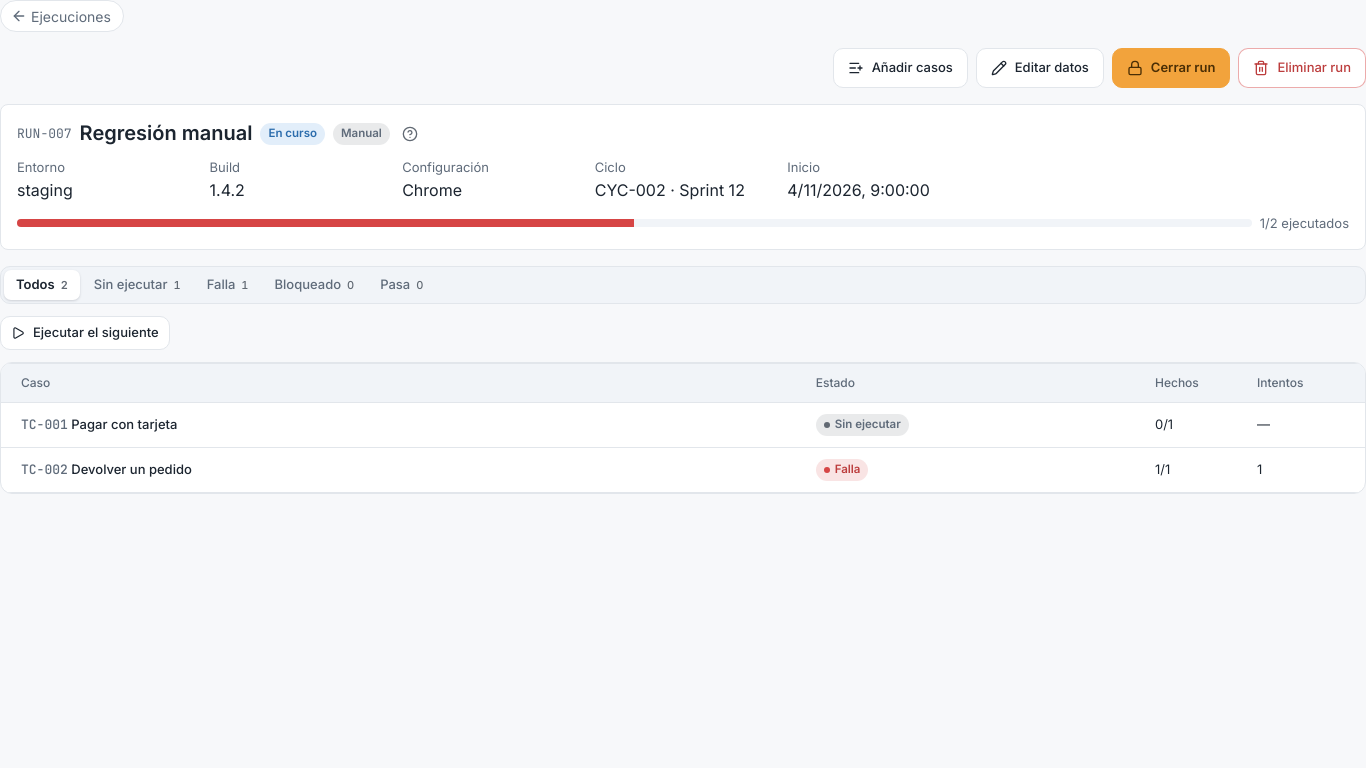
Test: run screen › does not delete a run of a closed cycle
Click the button with test id "run-delete". click: click(1302, 68)
box: [1238,48,1365,88]
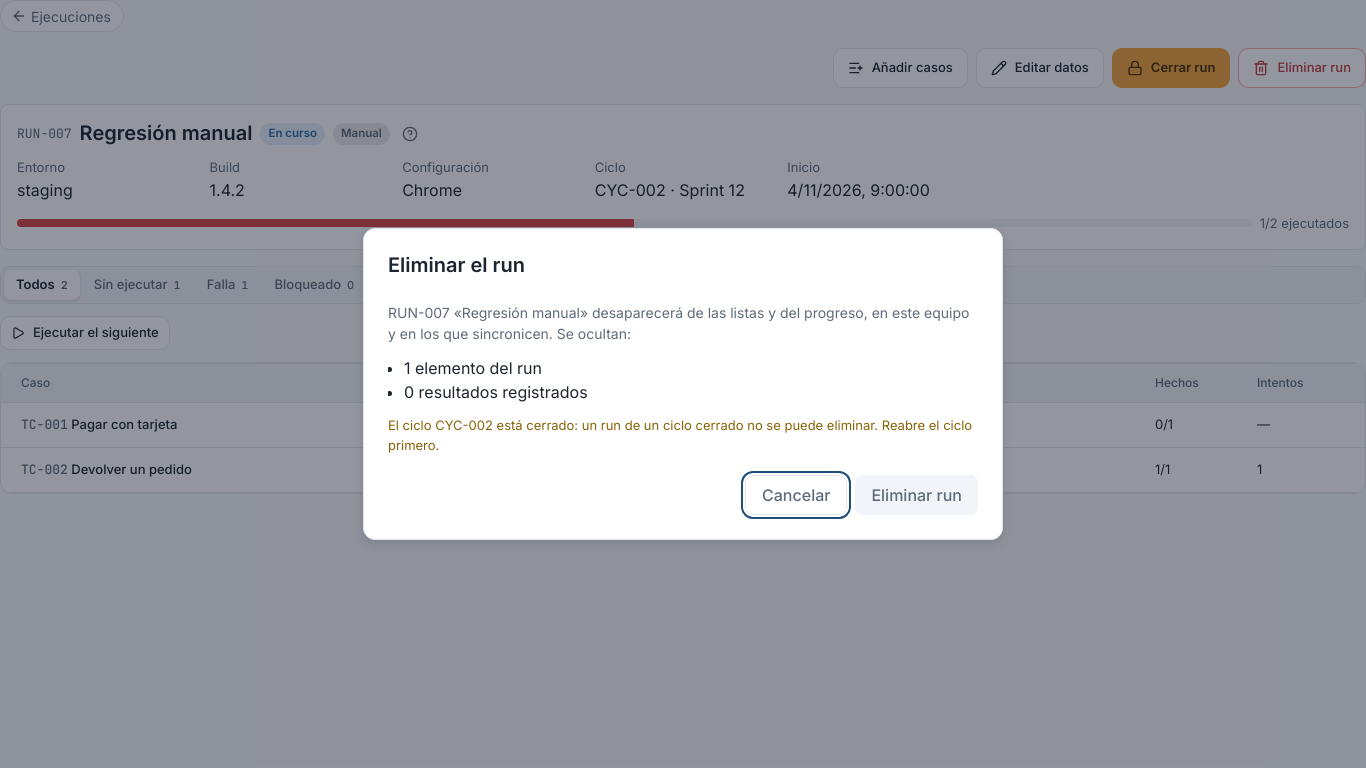
Expected: the message with test id "run-delete-cycle-closed" shows "El ciclo CYC-002 está cerrado", [388,417,972,452]
Expected: the button with test id "run-delete-confirm" is disabled, [855,475,978,515]
